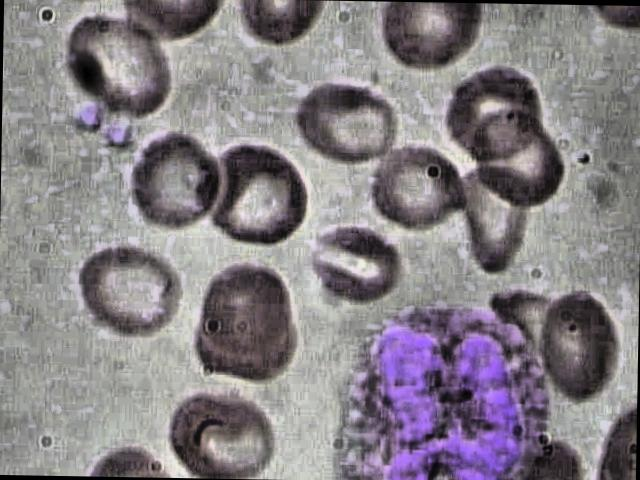Platelets: (67, 98, 106, 136), (98, 116, 136, 152)
RBC: (52, 9, 177, 124), (193, 135, 313, 254), (72, 240, 192, 348), (446, 49, 546, 168), (120, 126, 230, 234), (162, 382, 282, 480), (534, 284, 624, 412), (288, 70, 404, 168), (448, 158, 540, 281), (196, 257, 300, 359), (366, 138, 468, 236), (306, 214, 402, 312), (372, 2, 483, 80)
WBC: (329, 296, 560, 480)
